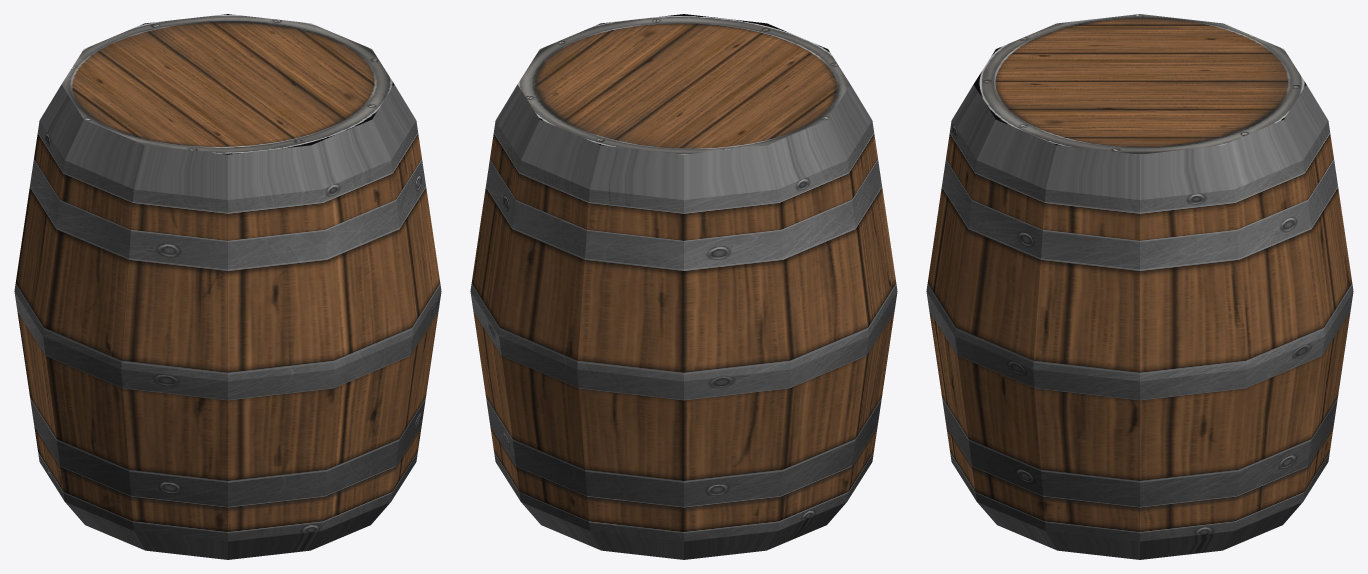
File: barrel_fulltextures.gltf
3 renders of one model, left to right at view 1: azimuth 30°, elevation 25°; view 2: azimuth 150°, elevation 25°; view 3: azimuth 270°, elevation 25°, orthographic.
Parts seen in each view (by area): view 1: Cylinder; view 2: Cylinder; view 3: Cylinder.
Boxes of the visible parts, x1=… form: Cylinder: x1=14, y1=14, x2=441, y2=559; Cylinder: x1=470, y1=14, x2=897, y2=559; Cylinder: x1=926, y1=14, x2=1353, y2=559.
Bounding box in the file's own units: 2.27 × 2.38 × 2.27.
Materials: 1 (1 with a texture image).
